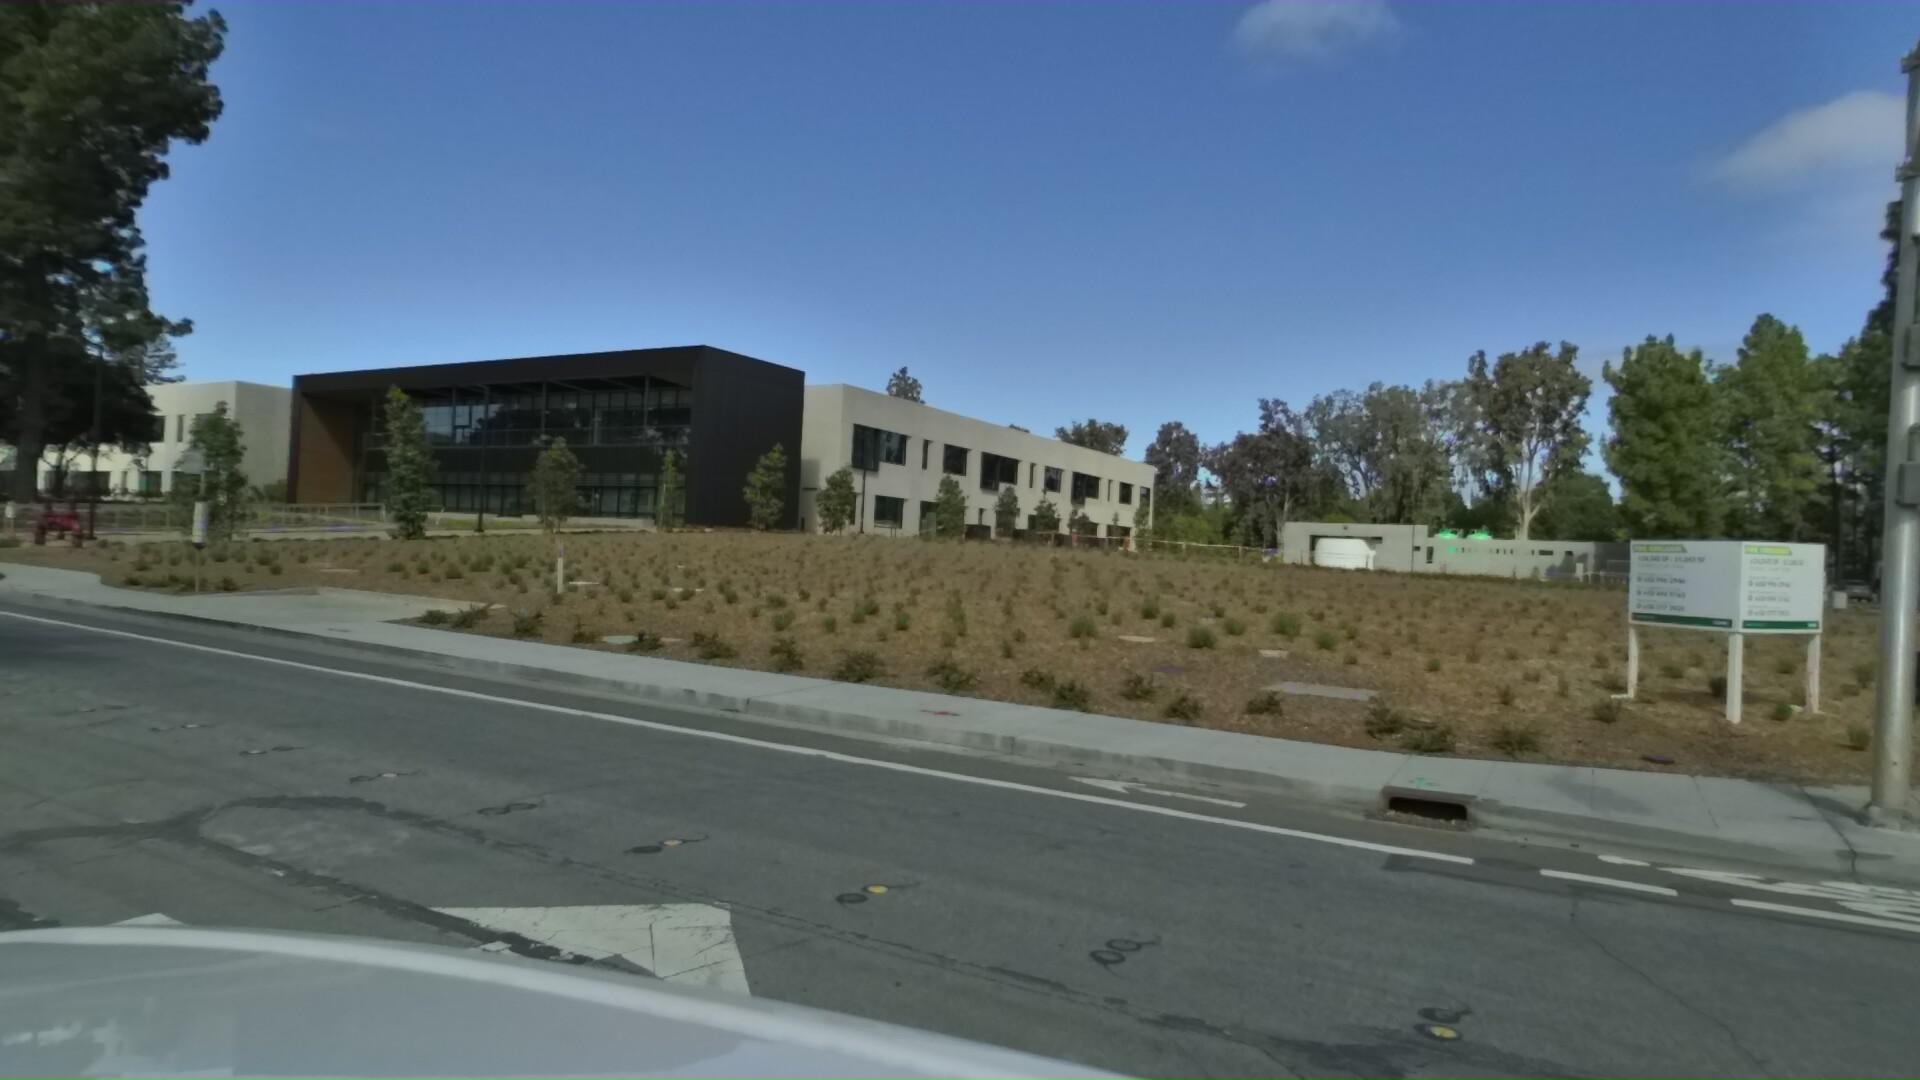car: (1811, 575, 1869, 605)
